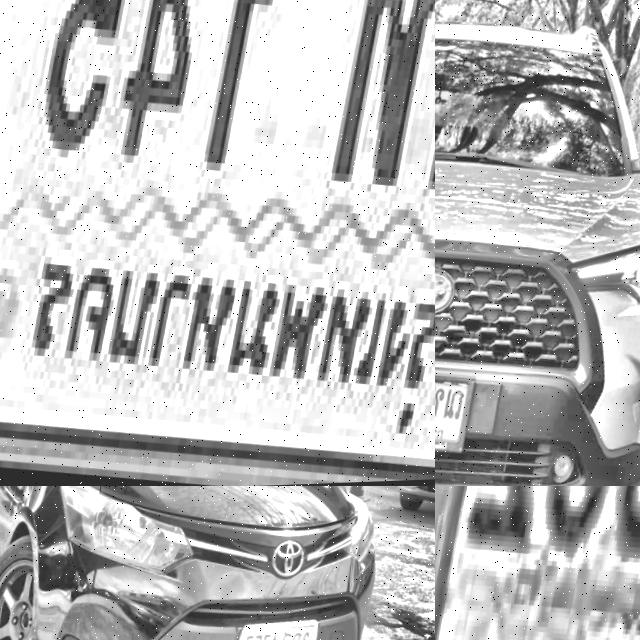license-plate: (0, 0, 435, 486), (435, 486, 640, 640), (435, 363, 481, 462), (229, 612, 325, 640)
